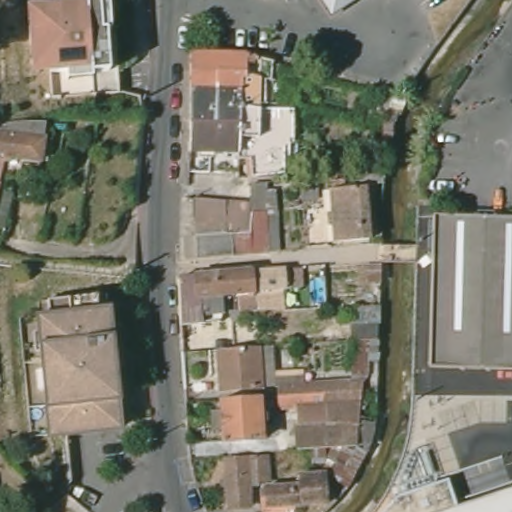pool: (307, 272, 329, 305), (29, 407, 42, 422)
